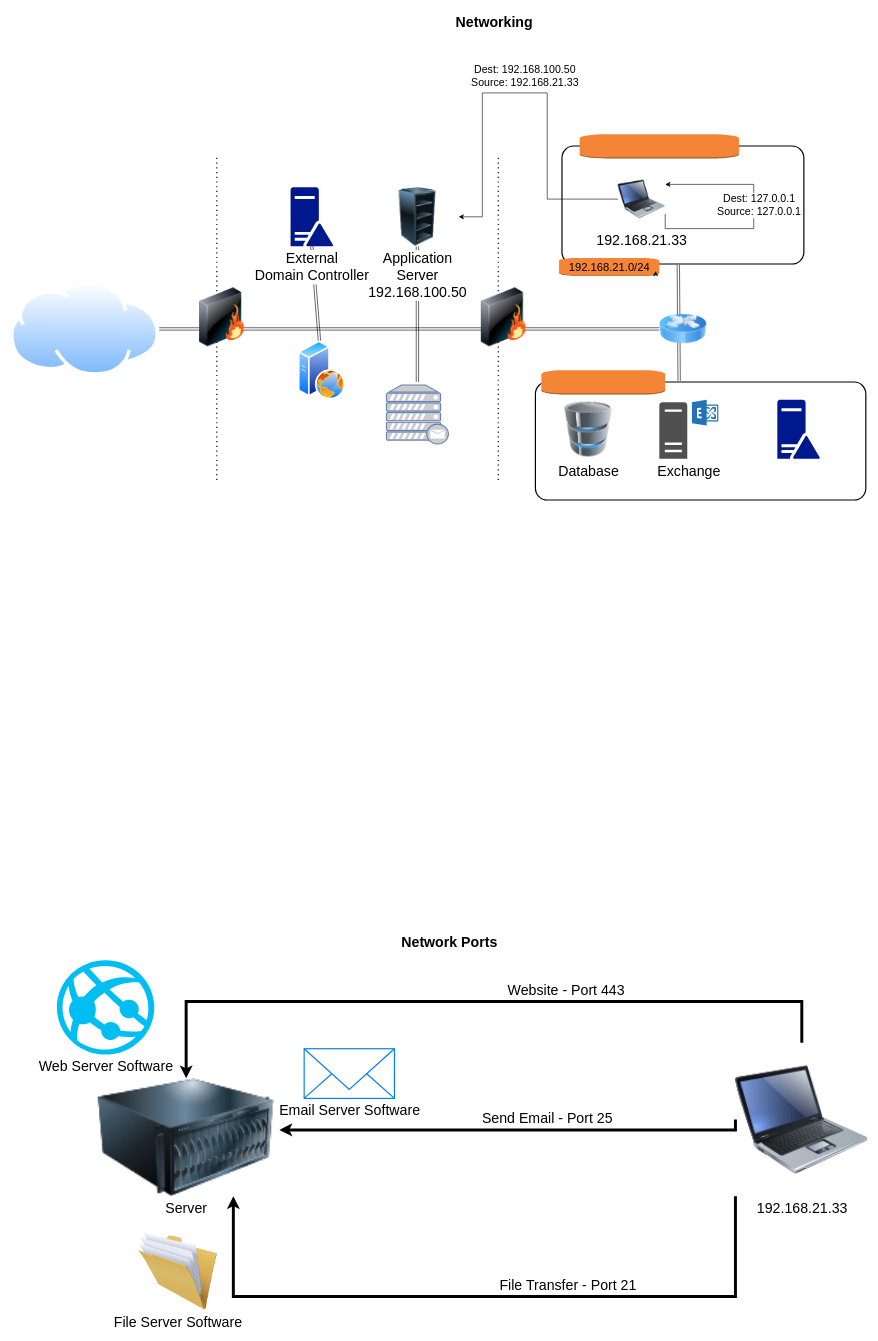
Image size: 878x1341. Some labels were removed from this diagram. The shapes that lost their labels are listed below. From the top down, each one's box as (x1, y1, x2, y2) in pixels, then its label:
(579, 134, 739, 158): Workstation Segment
(293, 340, 350, 399): Web Server
(541, 370, 665, 394): Server Segment
(386, 384, 449, 444): Mail Server
(777, 399, 820, 458): Internal Domain Controller
